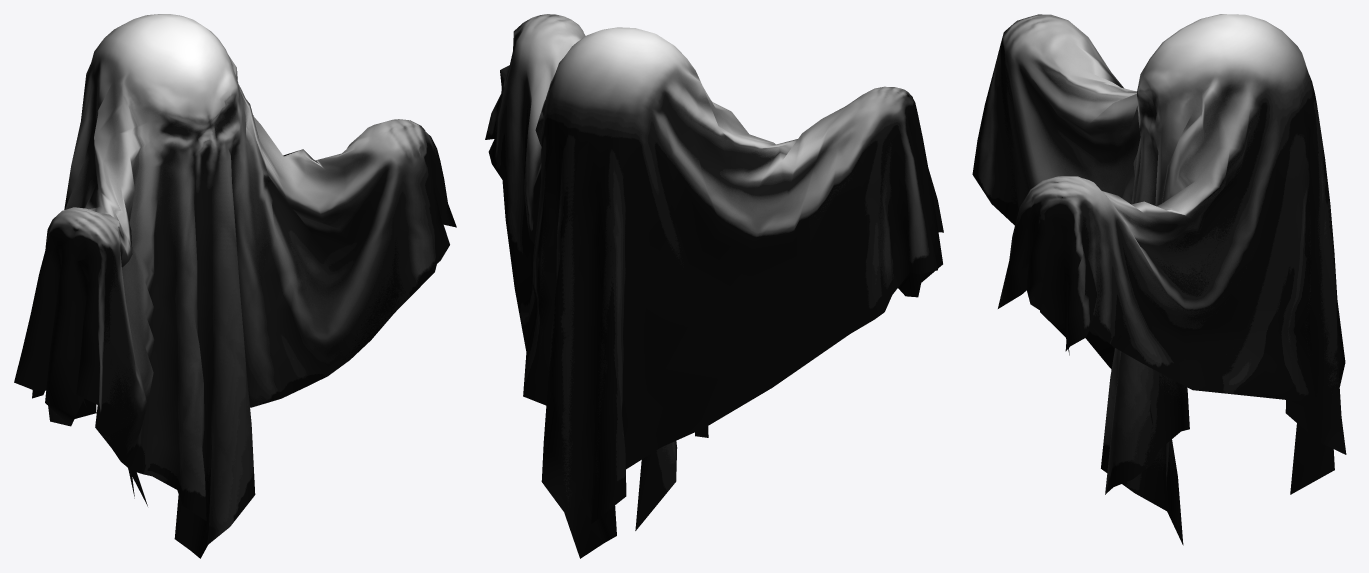
Rendered from Ghost_06.gltf.
3 views of the same model, side by side, from view 1: azimuth 30°, elevation 25°; view 2: azimuth 150°, elevation 25°; view 3: azimuth 270°, elevation 25° (orthographic). The views are drawn at different scales.
Visible parts, largest first — view 1: Sphere.001_remesh; view 2: Sphere.001_remesh; view 3: Sphere.001_remesh.
Boxes of the visible parts, x1,y1,x2,y2 form: Sphere.001_remesh: [14, 14, 456, 558]; Sphere.001_remesh: [485, 14, 943, 558]; Sphere.001_remesh: [972, 14, 1346, 545].
Bounding box in the file's own units: 1.56 × 1.75 × 1.14.
1 material, 1 textured.
